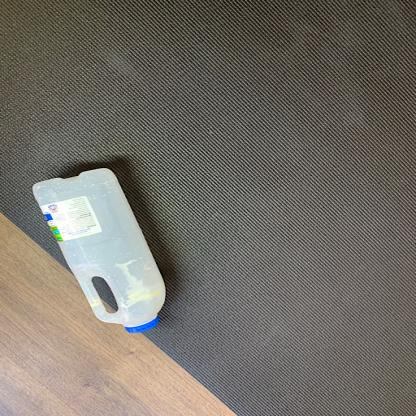trash: (29, 165, 168, 333)
